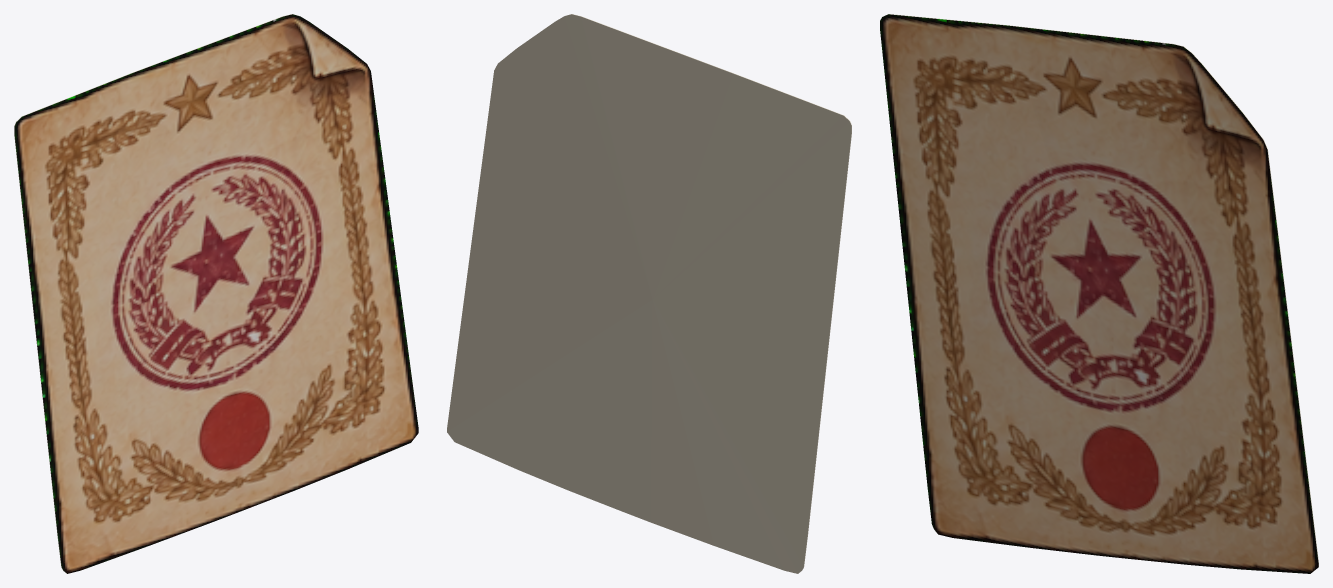
Rendered from fake_diploma-stamped.glb.
The picture shows the model from 3 angles, left to right: view 1: azimuth 30°, elevation 25°; view 2: azimuth 150°, elevation 25°; view 3: azimuth 330°, elevation 25°; orthographic projection. The views are drawn at different scales.
Parts seen in each view (by area): view 1: fake_diploma-stamped_printed_sheet, fake_diploma-stamped_real_cut_edge; view 2: fake_diploma-stamped_paper_reverse, fake_diploma-stamped_real_cut_edge; view 3: fake_diploma-stamped_printed_sheet, fake_diploma-stamped_real_cut_edge.
Boxes of the visible parts, x1,y1,x2,y2 form: fake_diploma-stamped_printed_sheet: [14, 14, 418, 573]; fake_diploma-stamped_real_cut_edge: [14, 14, 299, 570]; fake_diploma-stamped_paper_reverse: [447, 14, 851, 573]; fake_diploma-stamped_real_cut_edge: [564, 14, 851, 569]; fake_diploma-stamped_printed_sheet: [880, 14, 1318, 573]; fake_diploma-stamped_real_cut_edge: [887, 14, 1318, 567].
Size of the model in its own units: 0.183 by 0.2183 by 0.001.
2 materials, 1 textured.
